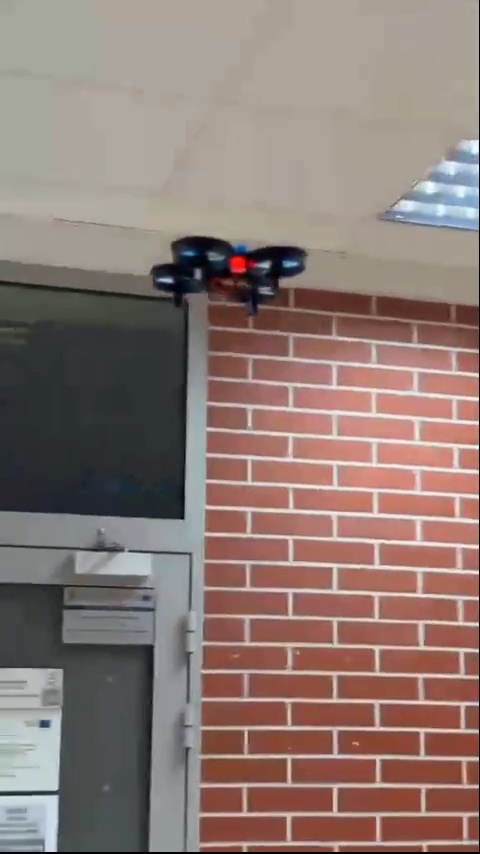drone: (153, 236, 314, 318)
